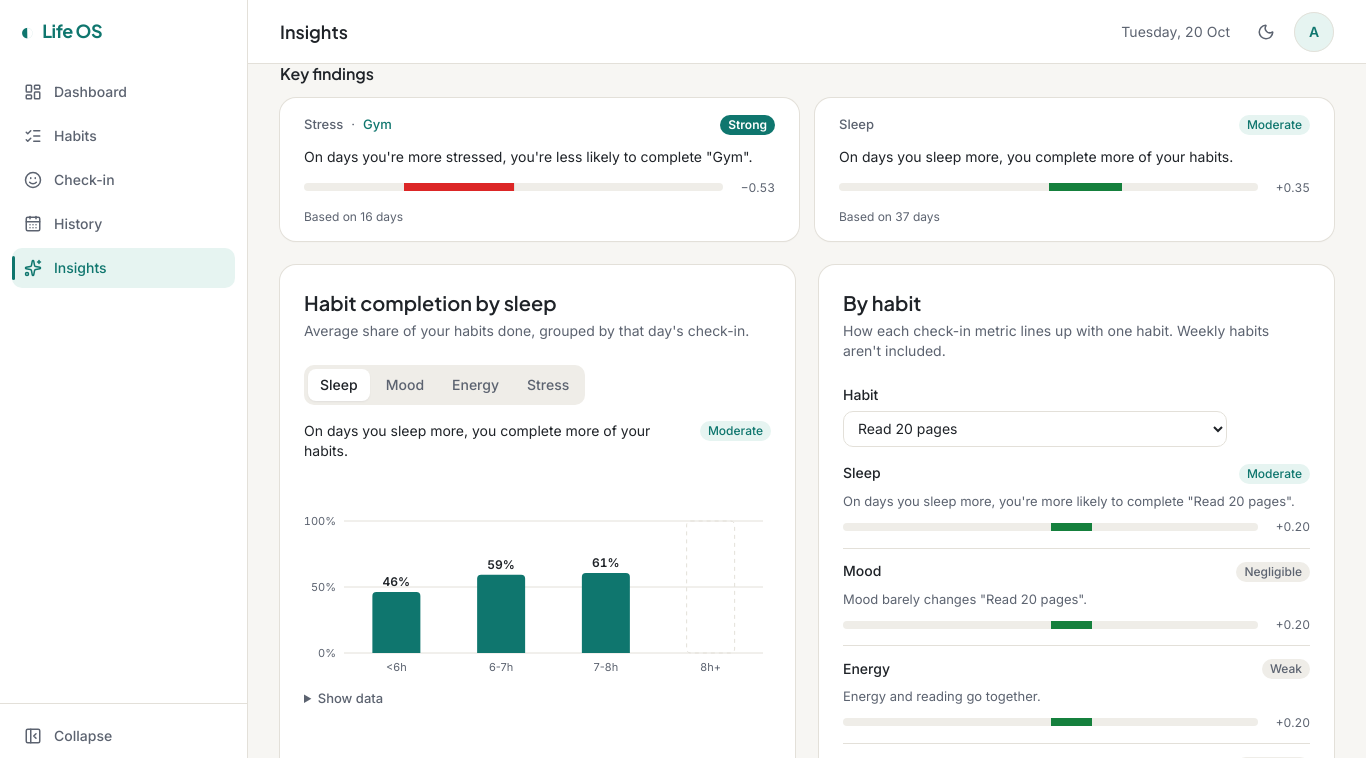
Test: InsightsPage – patterns › charts completion by sleep, with empty buckets as outlines, and switches metric
This screenshot has width=1366, height=758.
(page scrolled)
Expected: the heading "Habit completion by sleep" is shown, top-left (304, 290), bottom-right (557, 315)
Expected: the picture "Sleep <6h: 46%, 9 days" is shown, top-left (383, 574), bottom-right (410, 674)
What coordinates should you click on to do the following:
click the button "Mood"
I would click on:
 (405, 385)
Its box is top-left (374, 369), bottom-right (436, 401).
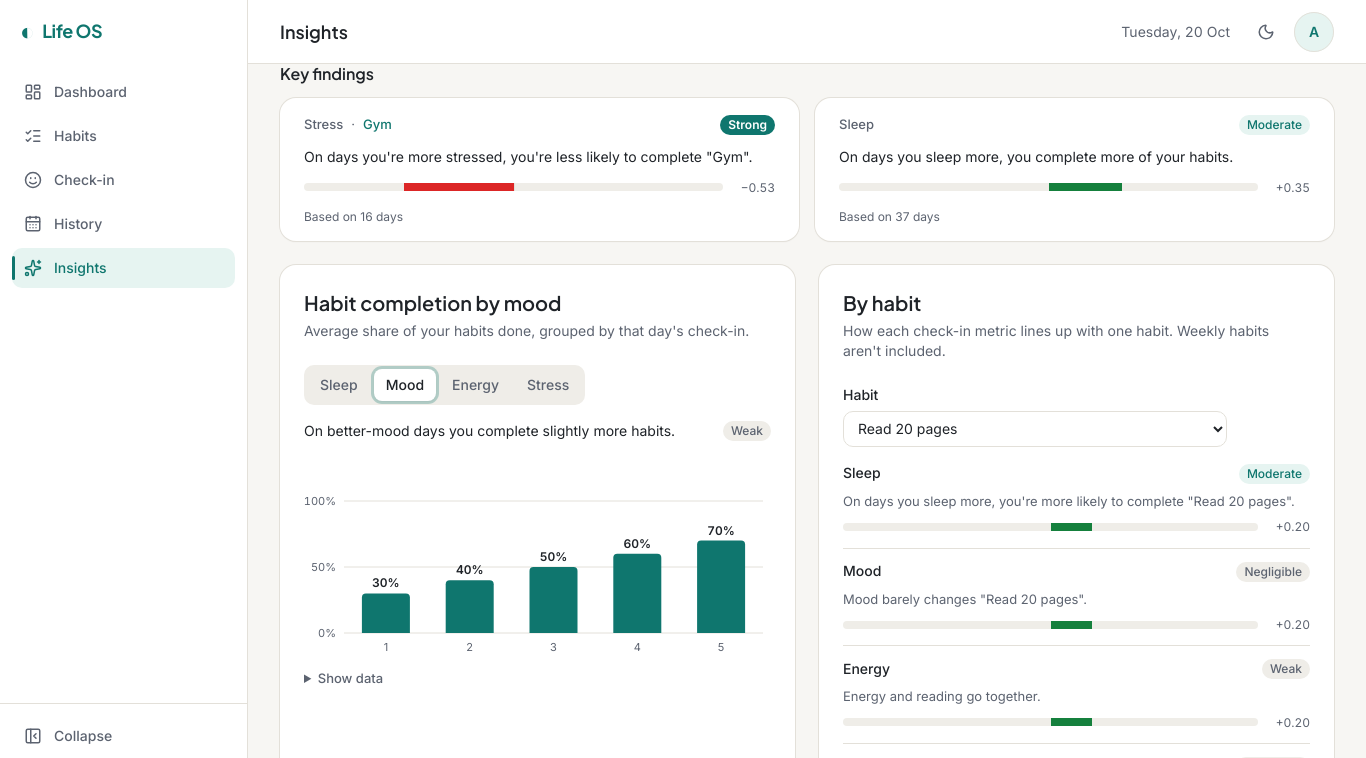
Expected: the picture "Mood 5 (Great): 70%, 5 days" is shown, top-left (707, 522), bottom-right (735, 654)
Expected: the heading "Habit completion by mood" is shown, top-left (304, 290), bottom-right (562, 315)
Expected: the text "On better-mood days you complete slightly more habits." is shown, top-left (304, 421), bottom-right (715, 441)
